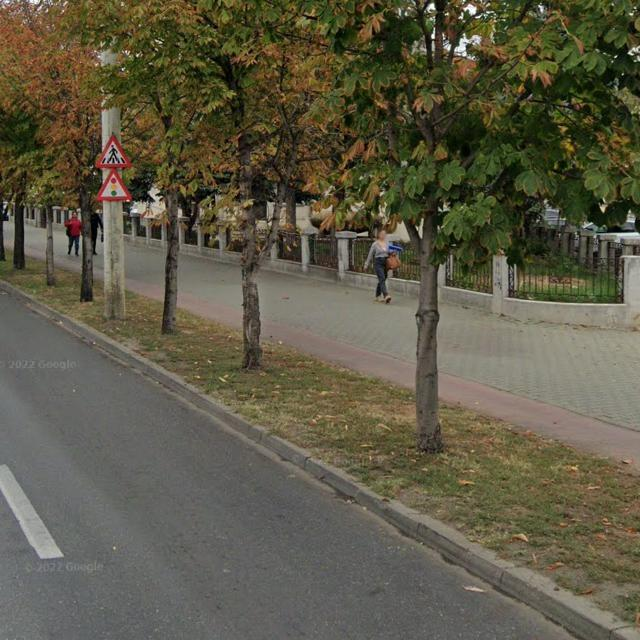warn_crosswalk: (92, 135, 136, 170)
